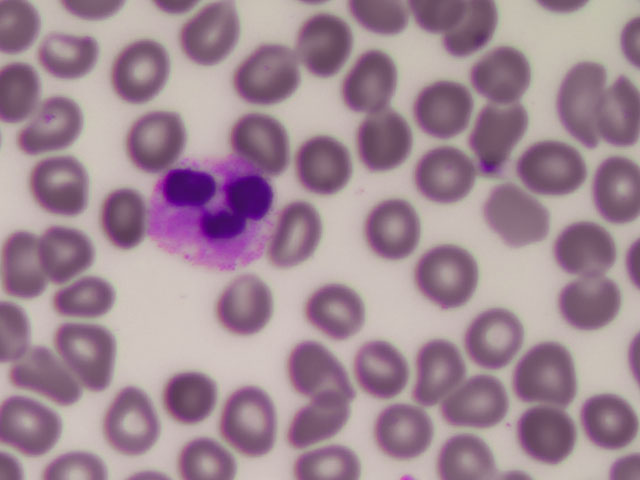RBC: (192, 423, 251, 480), (35, 32, 94, 88), (110, 41, 169, 97), (124, 106, 183, 162), (84, 186, 143, 242), (30, 153, 89, 209), (18, 89, 77, 145), (37, 217, 96, 273), (5, 240, 64, 296), (50, 270, 109, 326), (59, 325, 118, 381), (22, 346, 81, 402), (6, 404, 65, 460), (100, 389, 159, 445), (166, 374, 225, 430), (210, 388, 269, 444), (280, 393, 339, 449), (308, 332, 367, 388), (307, 282, 366, 338), (213, 276, 272, 332), (269, 206, 328, 262), (305, 123, 364, 179), (216, 108, 275, 164), (230, 40, 289, 96), (178, 2, 237, 58), (289, 16, 348, 72), (333, 48, 392, 104), (350, 117, 409, 173), (359, 200, 418, 256), (416, 251, 475, 307), (411, 135, 470, 191), (415, 84, 474, 140), (470, 105, 529, 161), (471, 60, 530, 116), (443, 3, 502, 59), (541, 65, 600, 121), (576, 78, 635, 134), (581, 151, 640, 207), (527, 140, 586, 196), (483, 186, 542, 242), (559, 221, 618, 277), (564, 277, 623, 333), (575, 379, 634, 435), (524, 406, 583, 462), (513, 345, 572, 401), (465, 305, 524, 361), (450, 360, 509, 416), (403, 344, 462, 400), (351, 335, 410, 391), (378, 405, 437, 461), (435, 432, 494, 479)
WBC: (153, 154, 278, 268)
